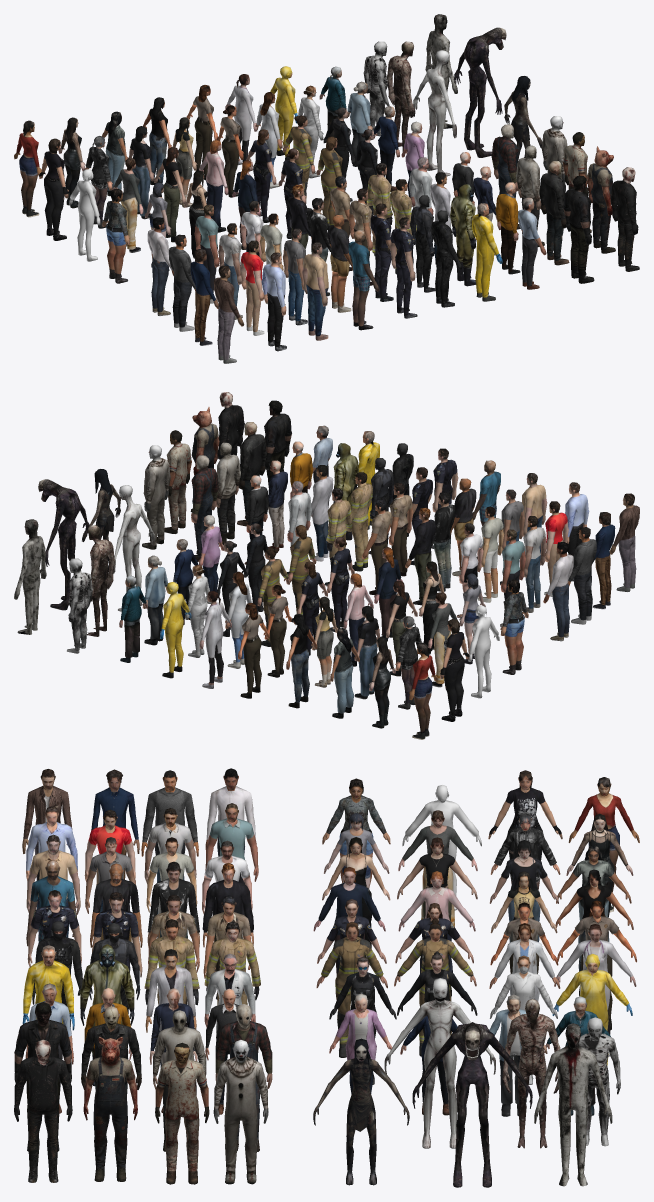
The model's file is characters_psx.glb.
3 views of the same model, one above another, from view 1: azimuth 30°, elevation 25°; view 2: azimuth 150°, elevation 25°; view 3: azimuth 270°, elevation 25° (orthographic). The views are drawn at different scales.
Parts seen in each view (by area): view 1: Character_Monster_04, Character_Killer_03, Character_Monster, Character_Killer_05, Character_Killer_02, Character_Killer_04, Character_09, Character_Monster_01, Character_28_HM, Character_Female_04, Character_17_Police, Character_05 (+66 smaller); view 2: Character_Monster_04, Character_Monster_05, Character_Killer_07, Character_Monster_01, Character_Killer_06, Character_Monster, Character_Female_04, Character_Killer_01, Character_Female_02, Character_02, Character_Killer, Character_Monster_02 (+66 smaller); view 3: Character_Monster_04, Character_Monster_05, Character_Killer_05, Character_Killer_07, Character_Killer_04, Character_Killer_06, Character_Monster, Character_Monster_03, Character_Monster_01, Character_21_Female_Firefighter_Character_21_Female_Firefigh, Character_Killer, Character_Killer_03 (+66 smaller).
Part boxes in pixels (x1,y1,x2,y2): Character_Monster_04: (453, 27, 506, 157); Character_Killer_03: (563, 176, 594, 283); Character_Monster: (413, 50, 456, 176); Character_Killer_05: (587, 146, 615, 253); Character_Killer_02: (539, 161, 569, 265); Character_Killer_04: (610, 167, 639, 271); Character_09: (302, 242, 328, 340); Character_Monster_01: (387, 41, 415, 151); Character_28_HM: (450, 184, 476, 286); Character_Female_04: (39, 138, 68, 240); Character_17_Police: (389, 217, 417, 318); Character_05: (261, 252, 286, 351); Character_Monster_04: (38, 479, 89, 610); Character_Monster_05: (14, 519, 46, 634); Character_Killer_07: (142, 445, 170, 549); Character_Monster_01: (87, 525, 114, 636); Character_Killer_06: (164, 430, 191, 533); Character_Monster: (113, 485, 155, 611); Character_Female_04: (439, 619, 469, 721); Character_Killer_01: (216, 442, 240, 545); Character_Female_02: (500, 579, 528, 674); Character_02: (568, 527, 596, 624); Character_Killer: (191, 455, 218, 561); Character_Monster_02: (67, 558, 92, 653); Character_Monster_04: (412, 1022, 532, 1187); Character_Monster_05: (534, 1023, 612, 1186); Character_Killer_05: (83, 1036, 137, 1181); Character_Killer_07: (213, 1040, 268, 1184); Character_Killer_04: (14, 1039, 72, 1182); Character_Killer_06: (155, 1042, 209, 1184); Character_Monster: (384, 978, 495, 1148); Character_Monster_03: (313, 1038, 409, 1185); Character_Monster_01: (502, 999, 560, 1148); Character_21_Female_Firefighter_Character_21_Female_Firefigh: (316, 921, 387, 1057); Character_Killer: (215, 1004, 272, 1151); Character_Killer_03: (14, 1002, 71, 1151).
Size of the model in its own units: 22.68 by 6.05 by 20.08.
Materials: 78 (77 with a texture image).
